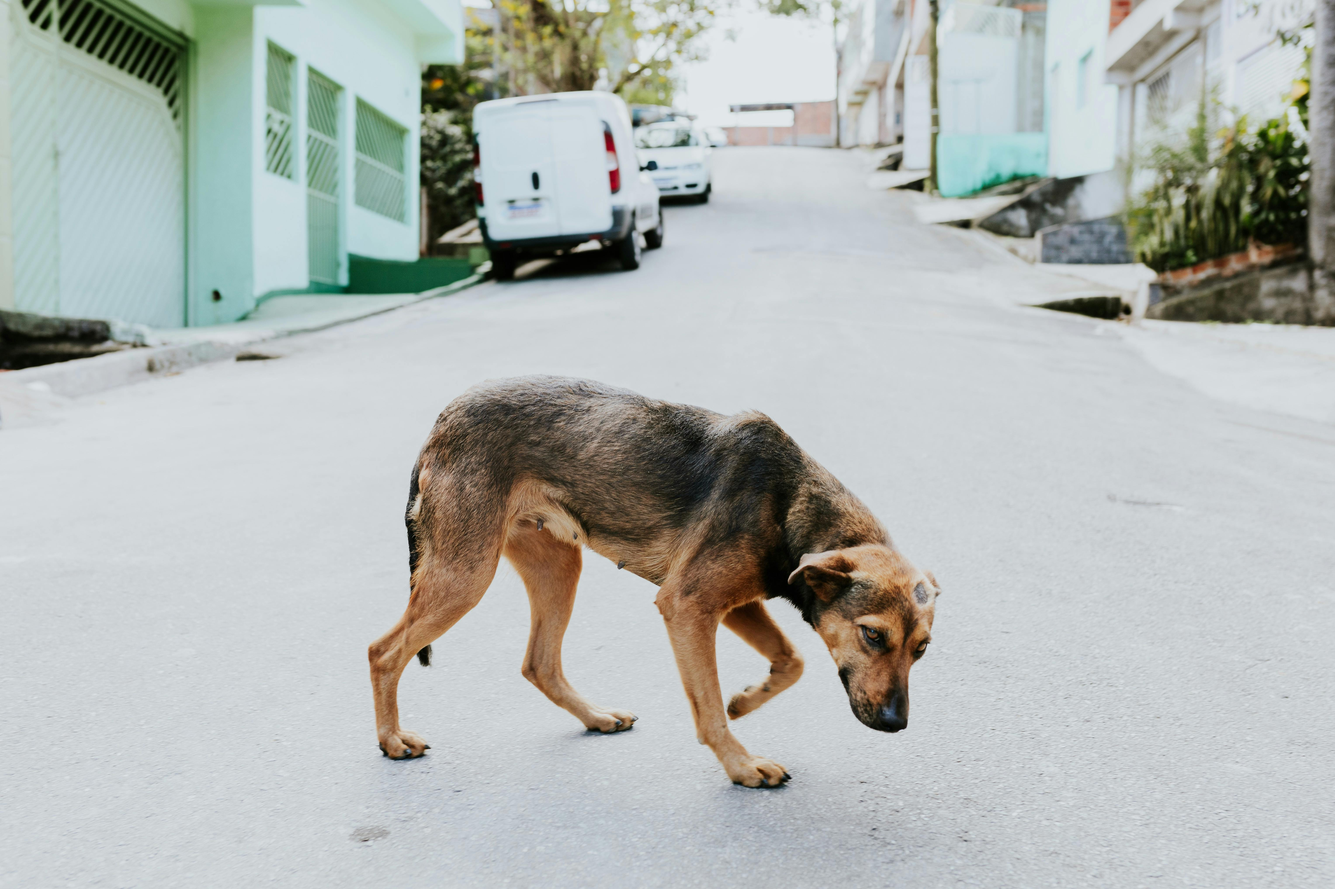Dog: (311, 346, 974, 812)
